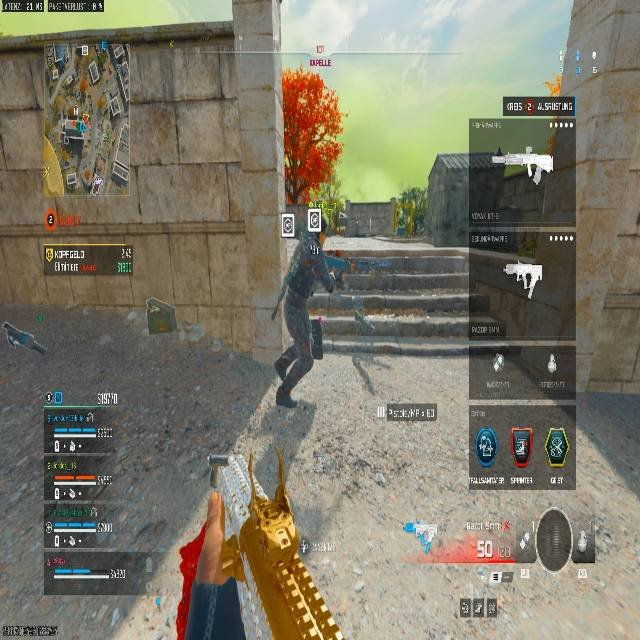player: (271, 227, 335, 407)
